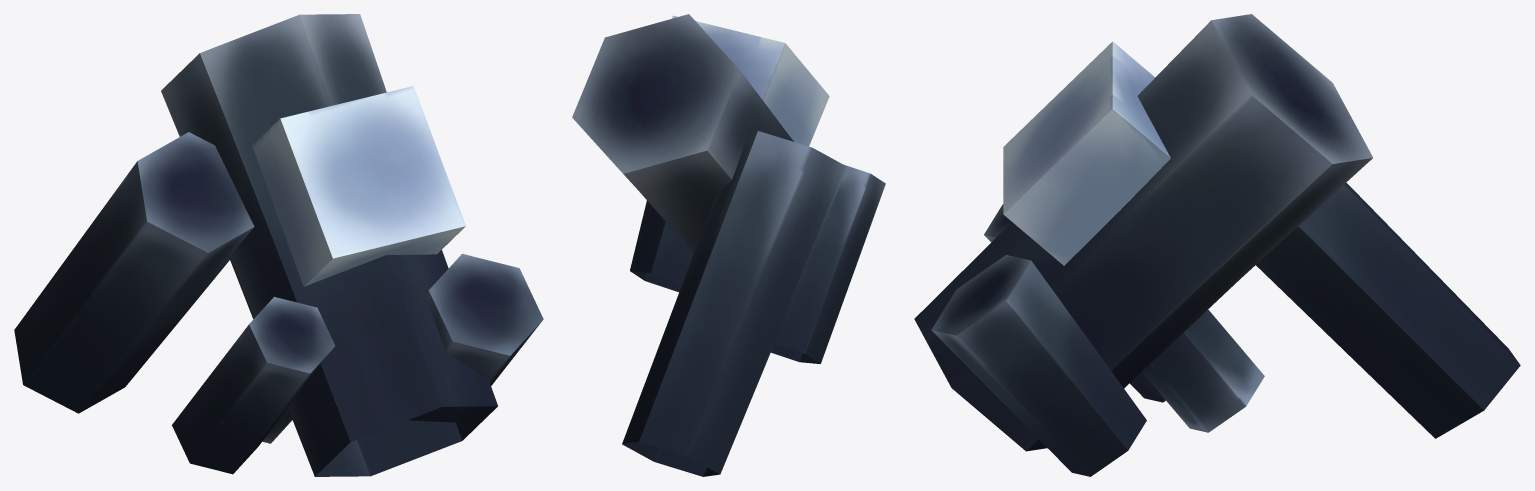
Rendered from HexCave_Letters.fbx.
3 views of the same model, side by side, from view 1: azimuth 30°, elevation 25°; view 2: azimuth 150°, elevation 25°; view 3: azimuth 270°, elevation 25° (orthographic). The views are drawn at different scales.
Visible parts, largest first — view 1: HexCave_Letters_Model; view 2: HexCave_Letters_Model; view 3: HexCave_Letters_Model.
Part boxes in pixels (<box>): HexCave_Letters_Model: <box>14,14,543,476</box>; HexCave_Letters_Model: <box>572,14,885,476</box>; HexCave_Letters_Model: <box>914,14,1520,476</box>.
Bounding box in the file's own units: 427 × 623 × 741.
Materials: 1 (1 with a texture image).
